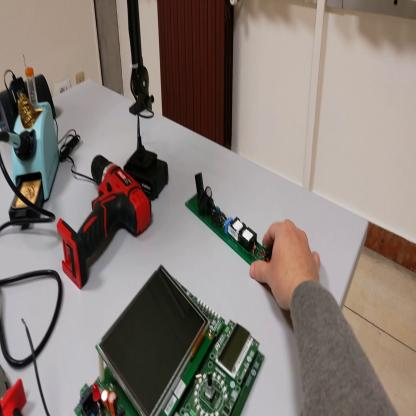electric screwdriver: (58, 153, 153, 292)
hand: (251, 219, 321, 314)
high voltage board: (183, 172, 274, 267)
low voltage board: (23, 254, 266, 416)
pliers: (1, 364, 28, 416)
socket: (4, 73, 58, 145)
welder base: (7, 72, 60, 232)
welder probe tip: (2, 128, 36, 156)
